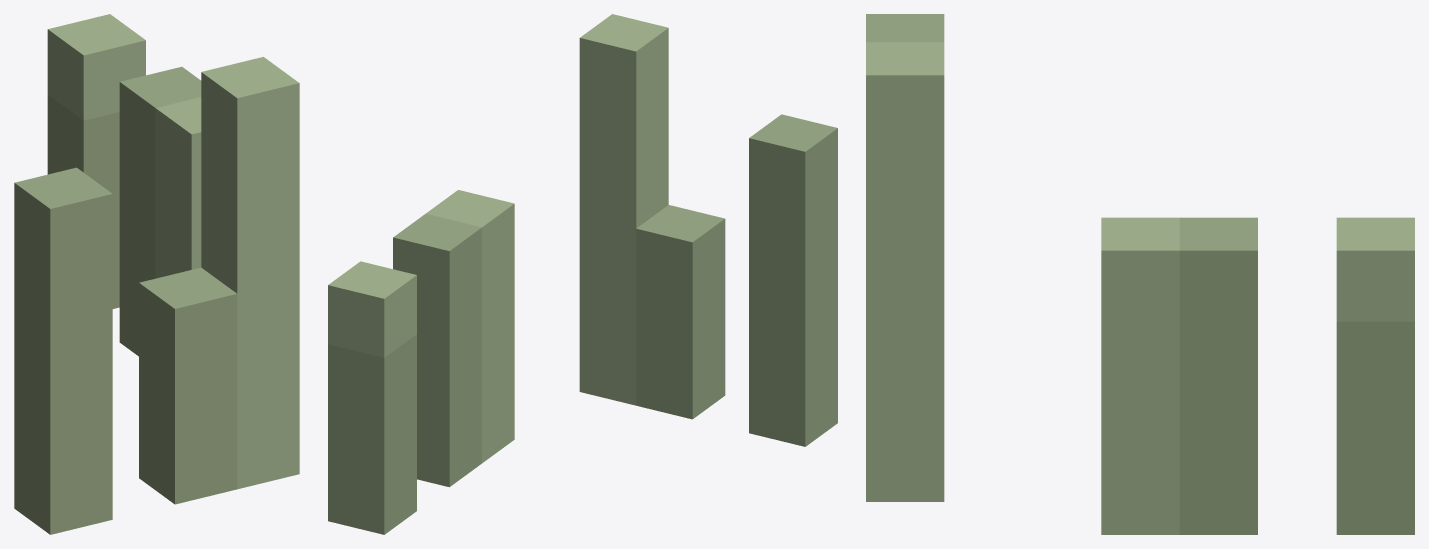
File: alcaparra_01.glb
The picture shows the model from 3 angles, left to right: view 1: azimuth 30°, elevation 25°; view 2: azimuth 150°, elevation 25°; view 3: azimuth 270°, elevation 25°; orthographic projection. The views are drawn at different scales.
Parts seen in each view (by area): view 1: alcaparra_01; view 2: alcaparra_01; view 3: alcaparra_01.
Part boxes in pixels (box(x1,y1,x2,y2)): alcaparra_01: box(14, 14, 299, 534); alcaparra_01: box(328, 14, 837, 534); alcaparra_01: box(866, 14, 1414, 534).
Bounding box in the file's own units: 0.5 × 0.6 × 0.7.
